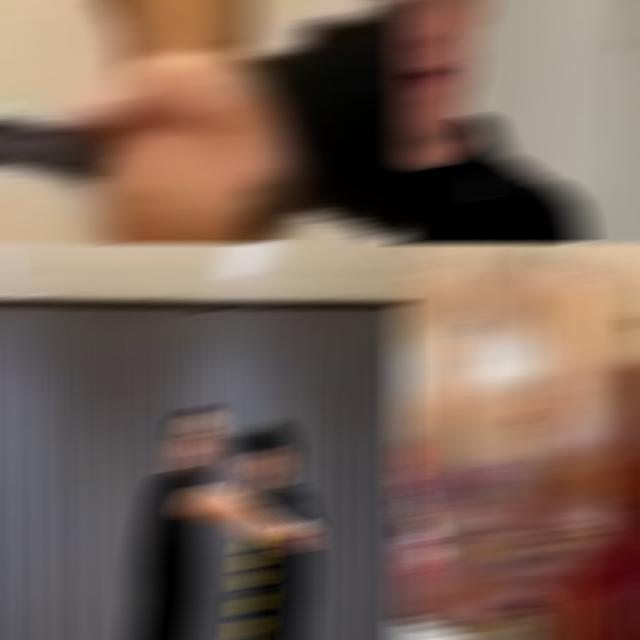Knife: (0, 60, 109, 182)
Knife_Handle: (0, 36, 314, 220), (396, 422, 575, 639)
